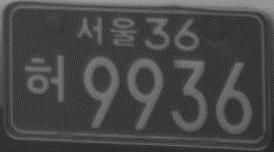3: (169, 58, 209, 135), (142, 15, 171, 52)
6: (213, 59, 254, 136), (171, 16, 201, 53)
9: (126, 56, 164, 133), (82, 55, 121, 130)
서울_O: (75, 14, 139, 48)
허: (23, 53, 67, 104)
